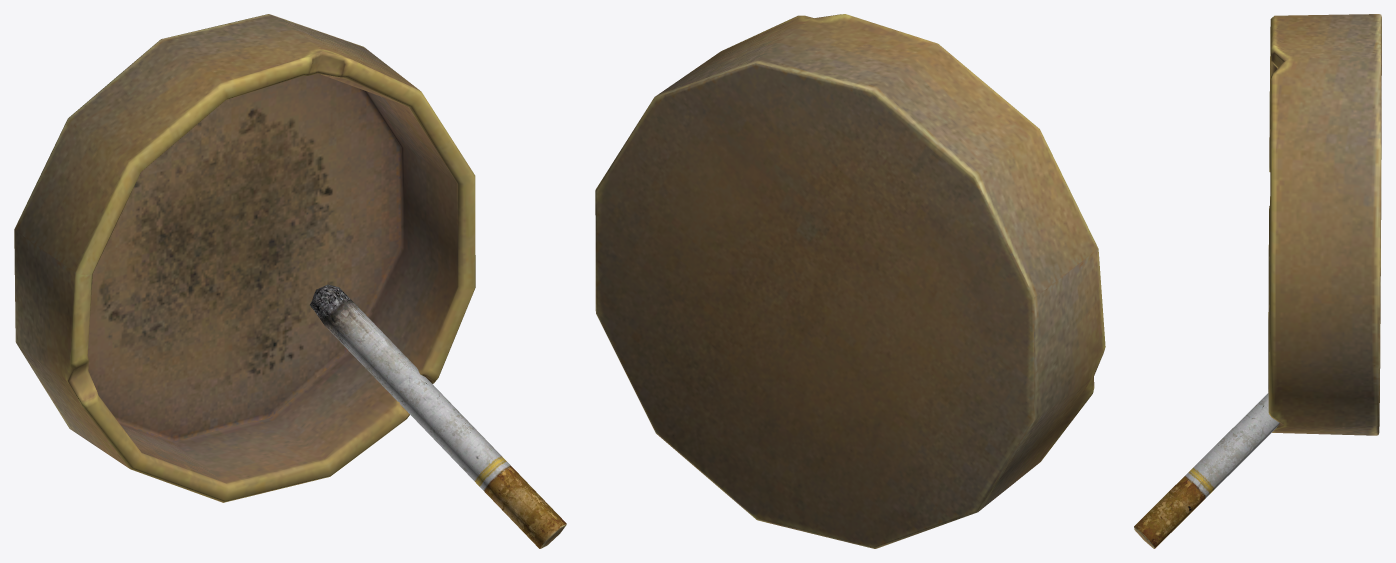
File: ashtray.glb
3 views of the same model, side by side, from view 1: azimuth 30°, elevation 25°; view 2: azimuth 150°, elevation 25°; view 3: azimuth 270°, elevation 25° (orthographic). The views are drawn at different scales.
Visible parts, largest first — view 1: ashtray, sigga; view 2: ashtray; view 3: ashtray, sigga.
Part boxes in pixels (x1=…): ashtray: x1=14, y1=14, x2=475, y2=502; sigga: x1=309, y1=284, x2=566, y2=548; ashtray: x1=595, y1=14, x2=1105, y2=548; ashtray: x1=1268, y1=14, x2=1381, y2=435; sigga: x1=1134, y1=393, x2=1279, y2=548.
Size of the model in its own units: 7.88 by 8.55 by 4.5.
2 materials, 2 textured.
